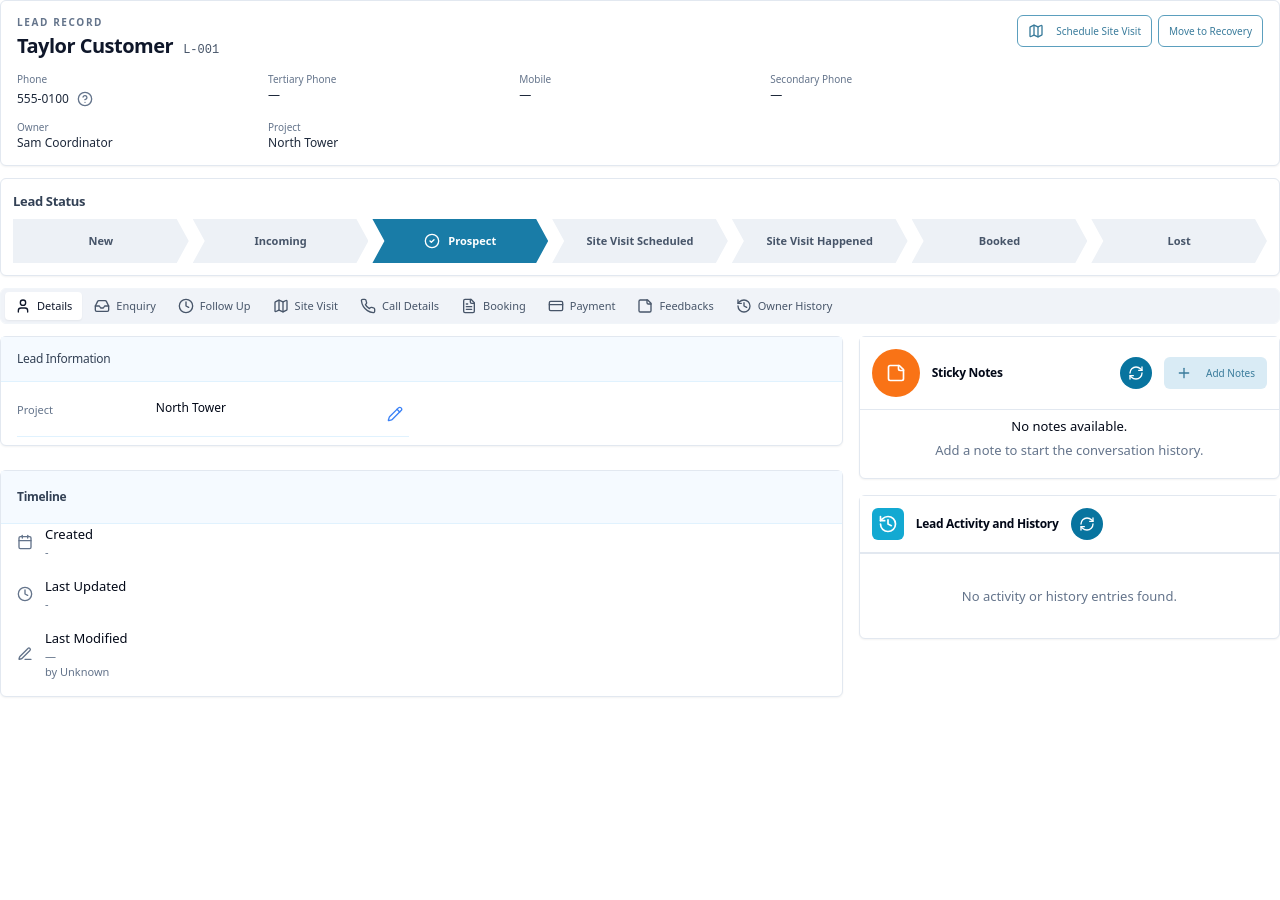
Test: SVC Site Visit project selection › shows project-load errors inline and retries without an unhandled rejection
Click the button "Schedule Site Visit".
click(1085, 31)  # box x1=1017 y1=15 x2=1152 y2=47
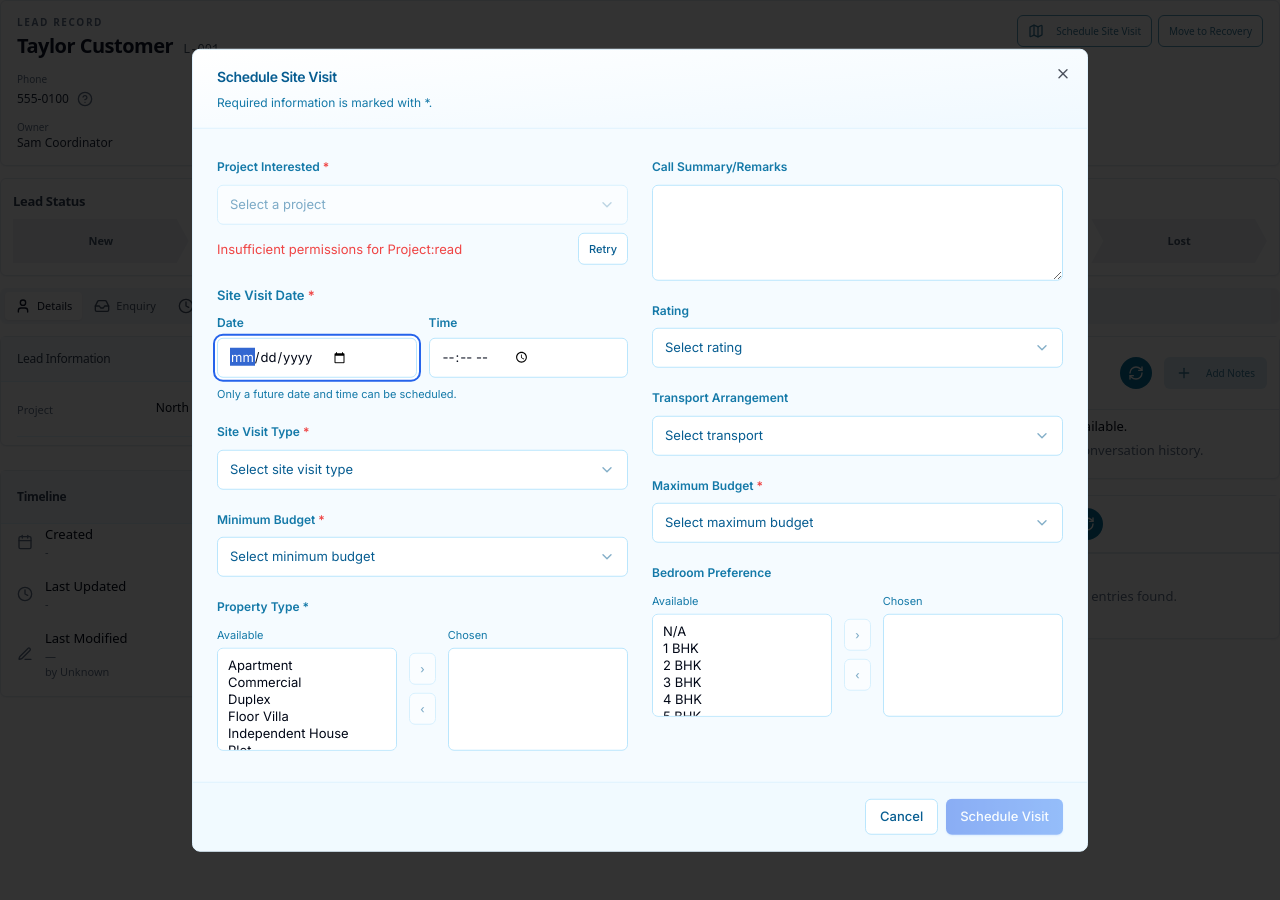
Expected: the message shows "Insufficient permissions for Project:read", x1=217 y1=240 x2=462 y2=256
Click the button "Retry".
click(603, 248)  # box x1=578 y1=232 x2=628 y2=264
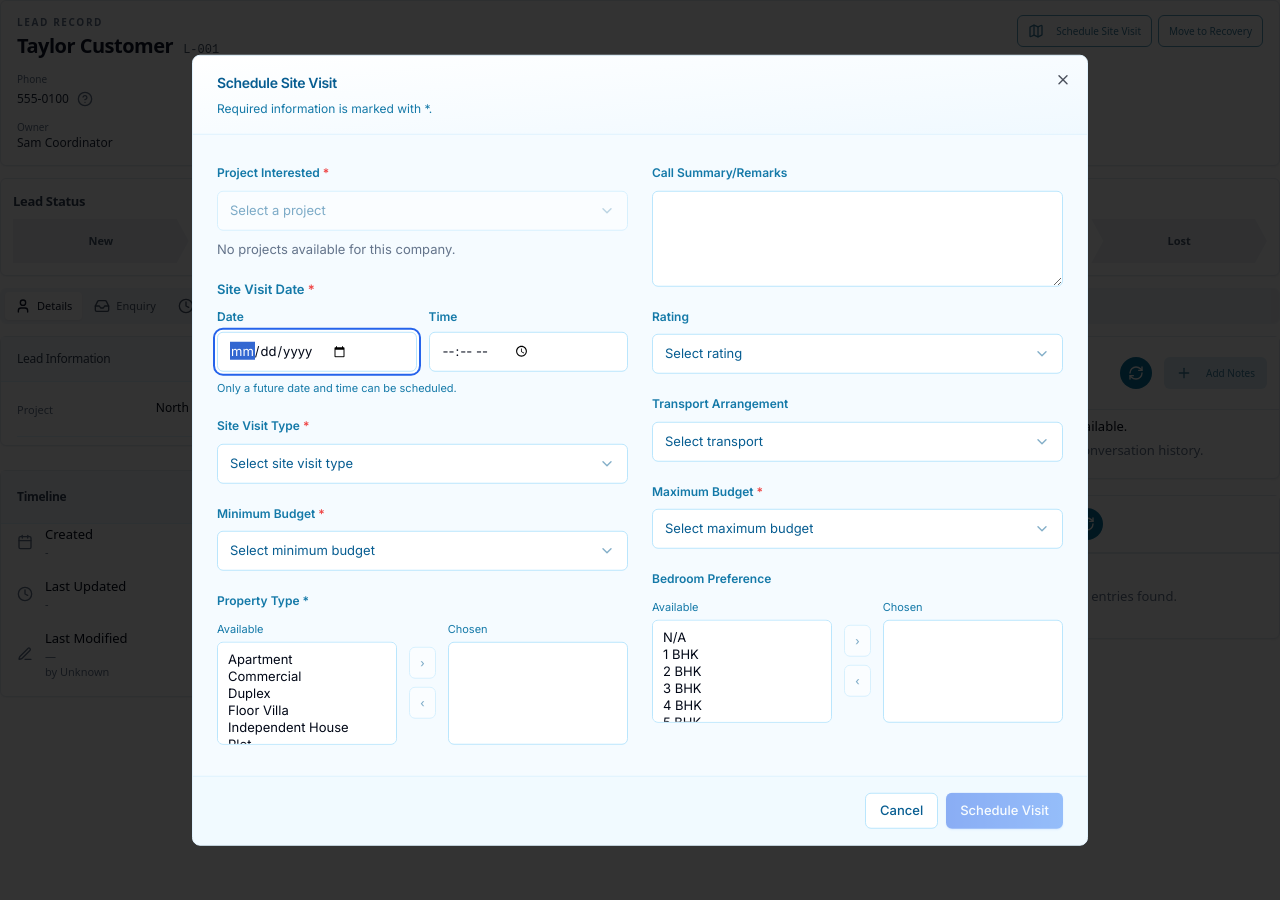
Expected: the text "No projects available for this company." is shown, x1=217 y1=240 x2=455 y2=256
